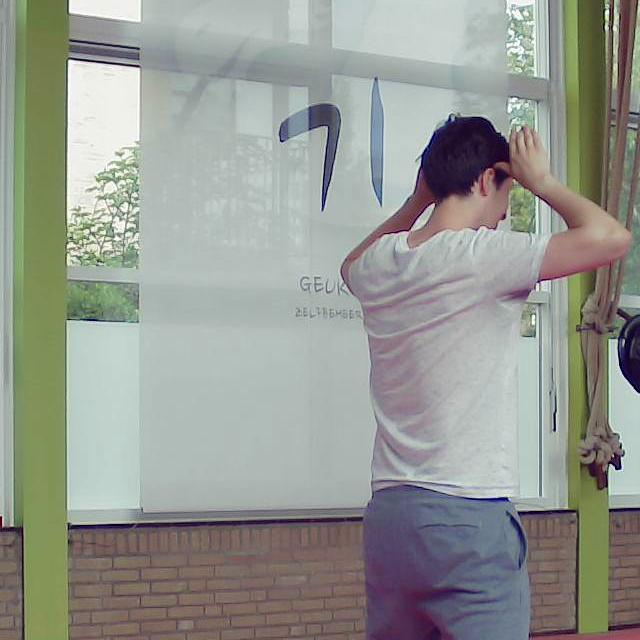paddle: (617, 311, 640, 414)
